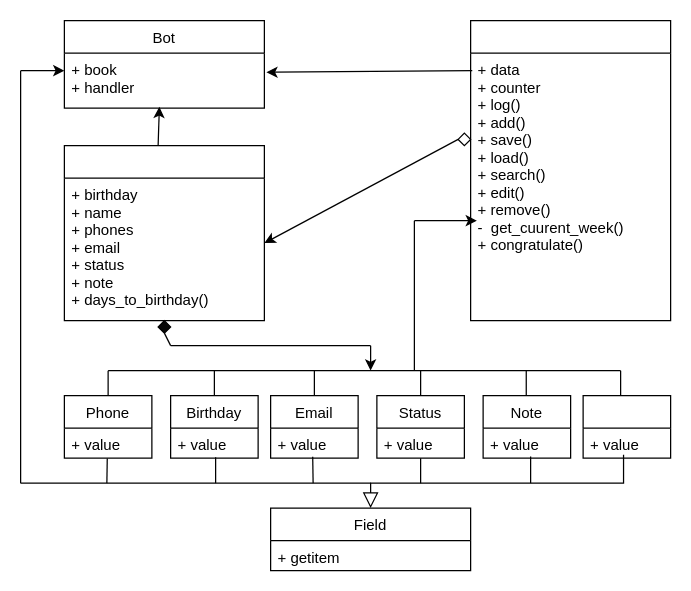
Some shapes in this 691 by 591 pixel diagram are drawn without their labels. Here are the shapes that lost their labels. From the top down, the box of each, then its label:
(469, 19, 671, 321): Addressbook
(63, 144, 264, 321): Record
(582, 394, 671, 458): Name
